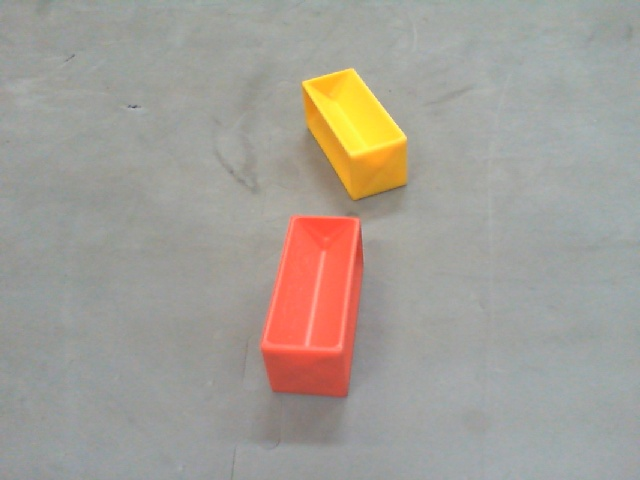RedSample: (257, 212, 366, 400)
YellowSample: (298, 65, 413, 202)
